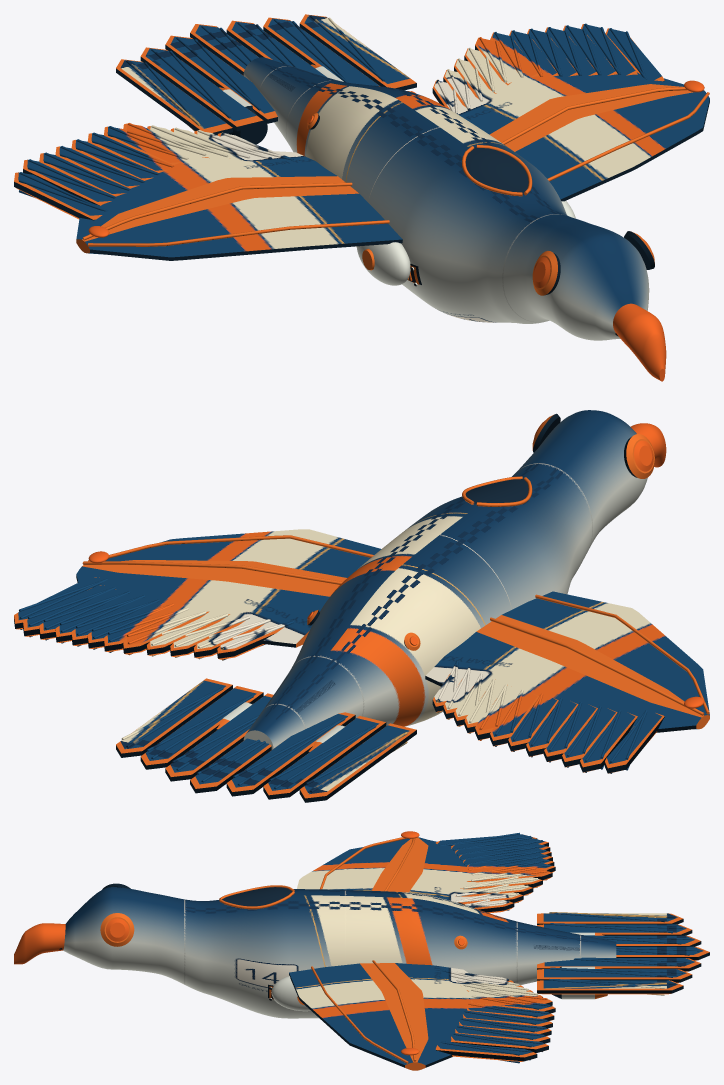
3 renders of one model, top to bottom at view 1: azimuth 30°, elevation 25°; view 2: azimuth 150°, elevation 25°; view 3: azimuth 270°, elevation 25°, orthographic. The views are drawn at different scales.
Parts seen in each view (by area): view 1: oxpecker_hull; view 2: oxpecker_hull; view 3: oxpecker_hull.
Boxes of the visible parts, x1=… form: oxpecker_hull: x1=14, y1=14, x2=709, y2=381; oxpecker_hull: x1=14, y1=410, x2=709, y2=802; oxpecker_hull: x1=14, y1=831, x2=709, y2=1070.
Size of the model in its own units: 12.31 by 3.09 by 16.
1 material, 1 textured.
